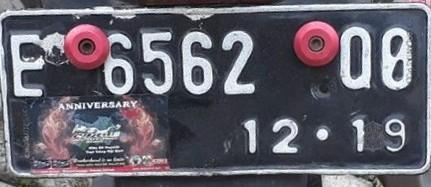clone-license-plate: (0, 4, 430, 171)
